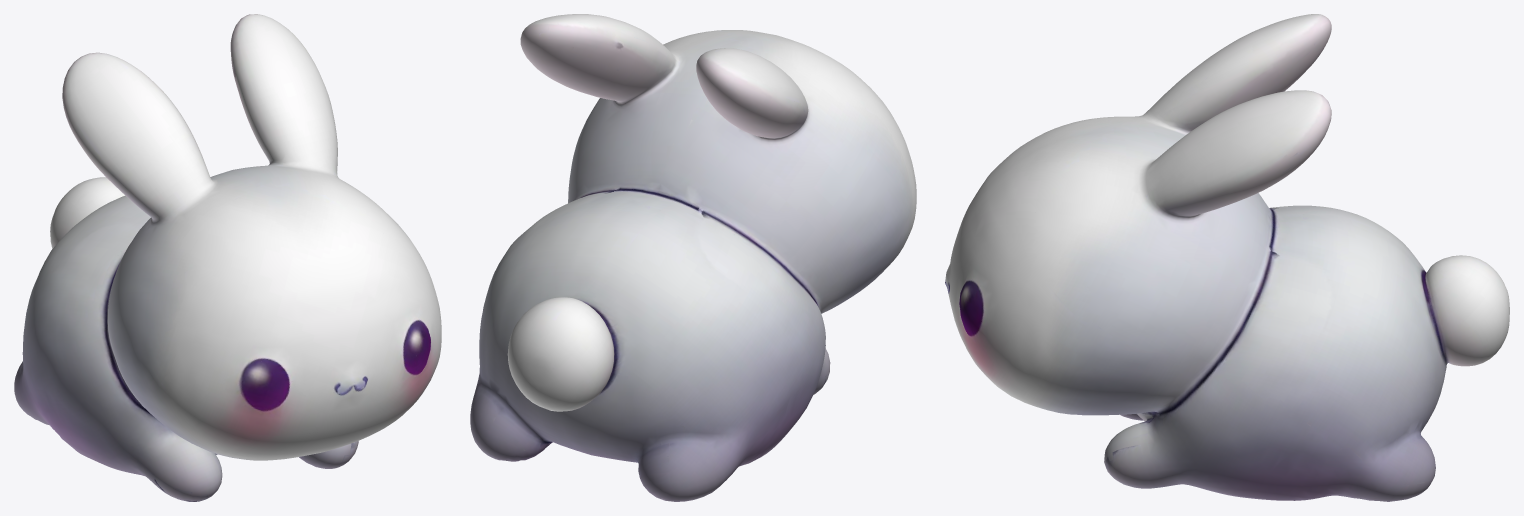
File: cute_little_bunny_pet.glb
3 views of the same model, side by side, from view 1: azimuth 30°, elevation 25°; view 2: azimuth 150°, elevation 25°; view 3: azimuth 270°, elevation 25° (orthographic). The views are drawn at different scales.
Visible parts, largest first — view 1: Object_2; view 2: Object_2; view 3: Object_2.
Part boxes in pixels (left/top/right/bottom): Object_2: left=14, top=14, right=441, bottom=501; Object_2: left=470, top=14, right=916, bottom=501; Object_2: left=945, top=14, right=1509, bottom=501.
Bounding box in the file's own units: 1.14 × 1.46 × 1.9.
1 material, 1 textured.
